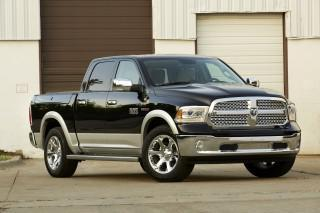ram: (246, 105, 262, 117)
